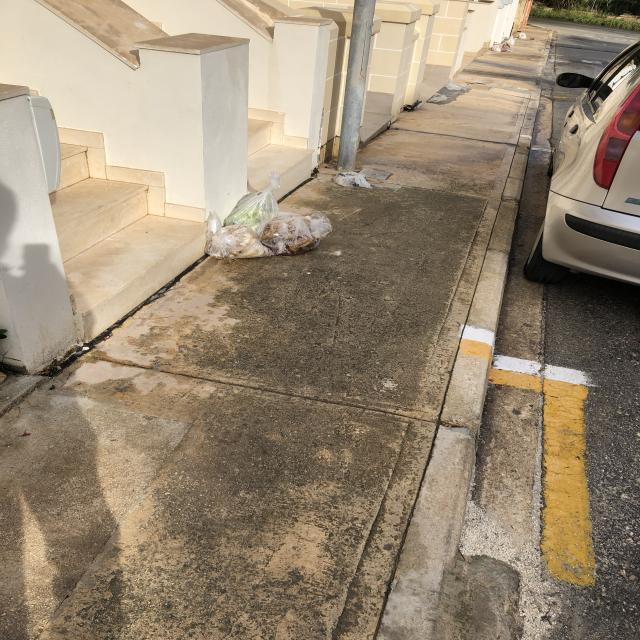Organic Waste -White Bag-: (204, 191, 330, 263)
